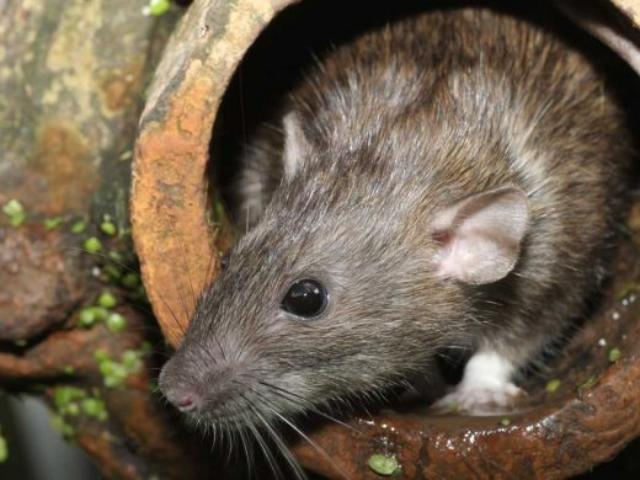rat: (130, 57, 608, 459)
